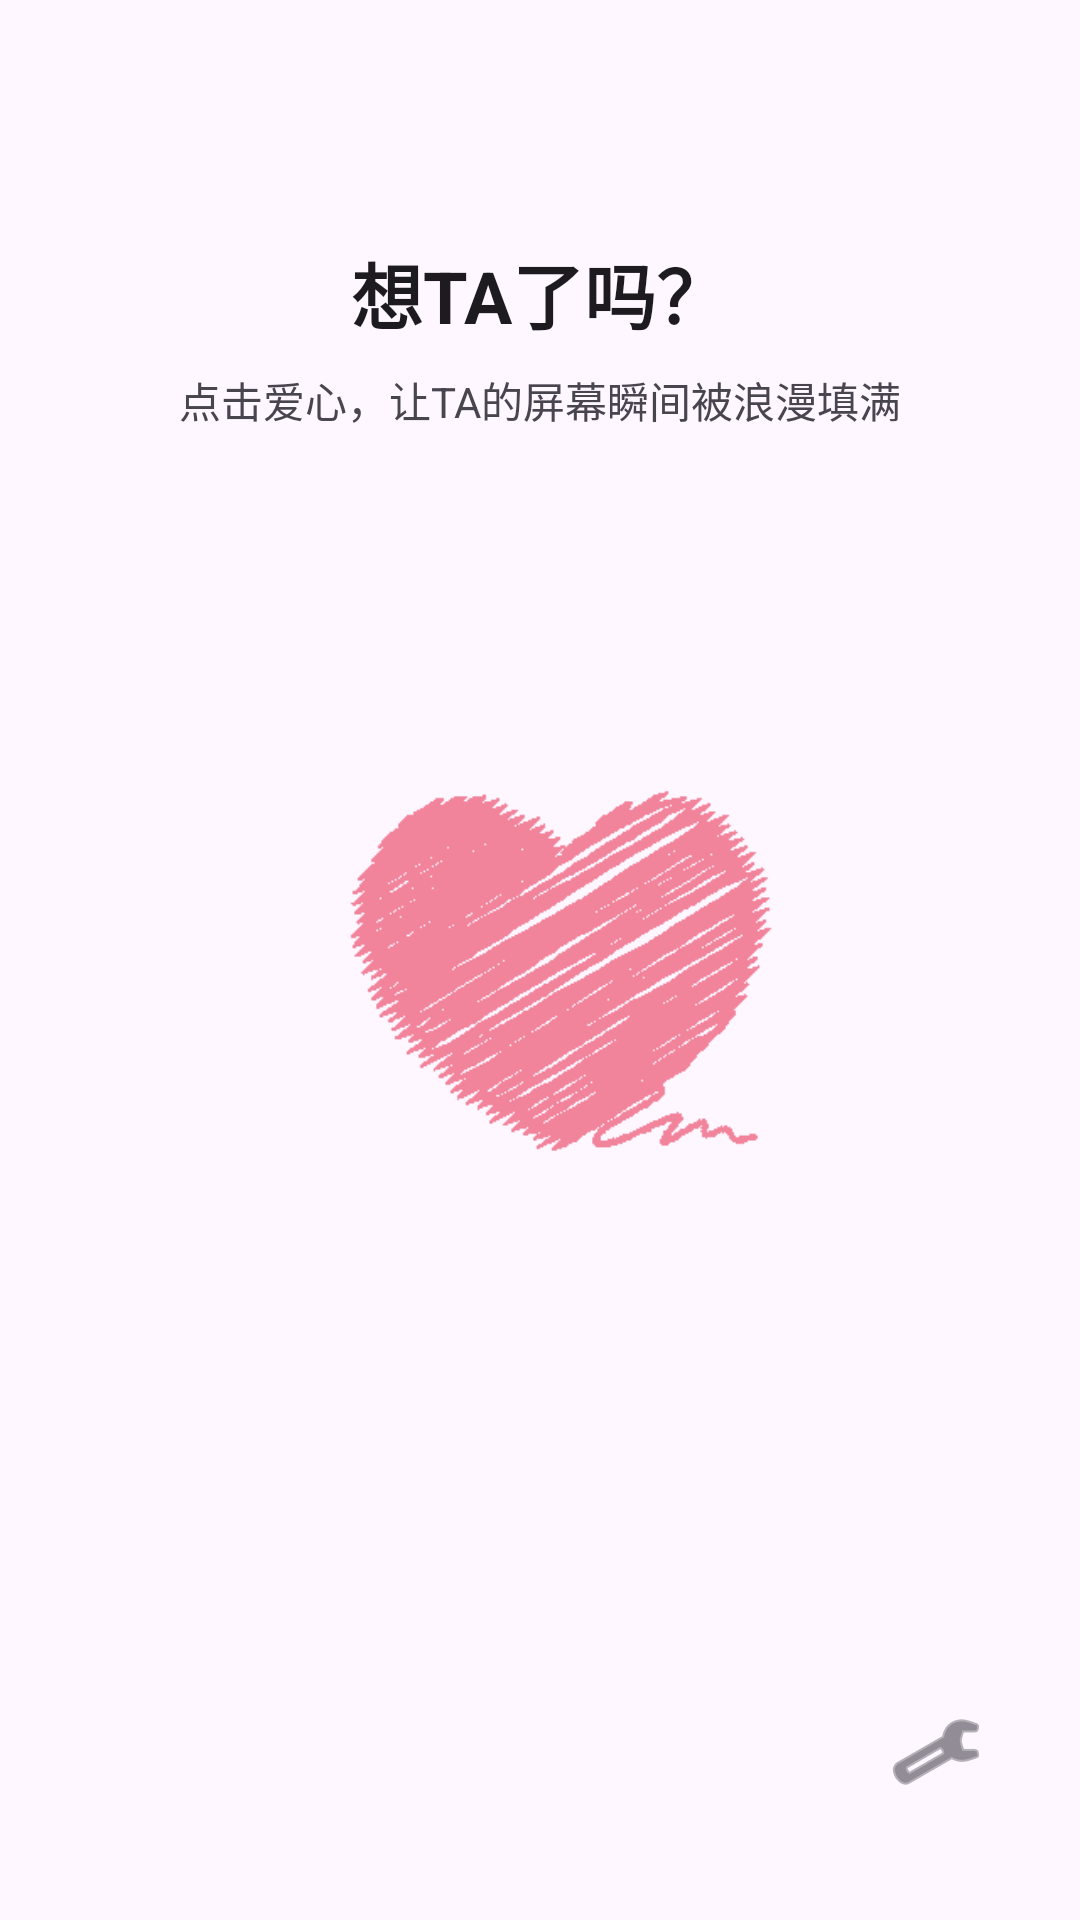

Point at icon controls on the screen. Image size 1080 × 1920, points as (x,y).
preferences: (936,1752)
